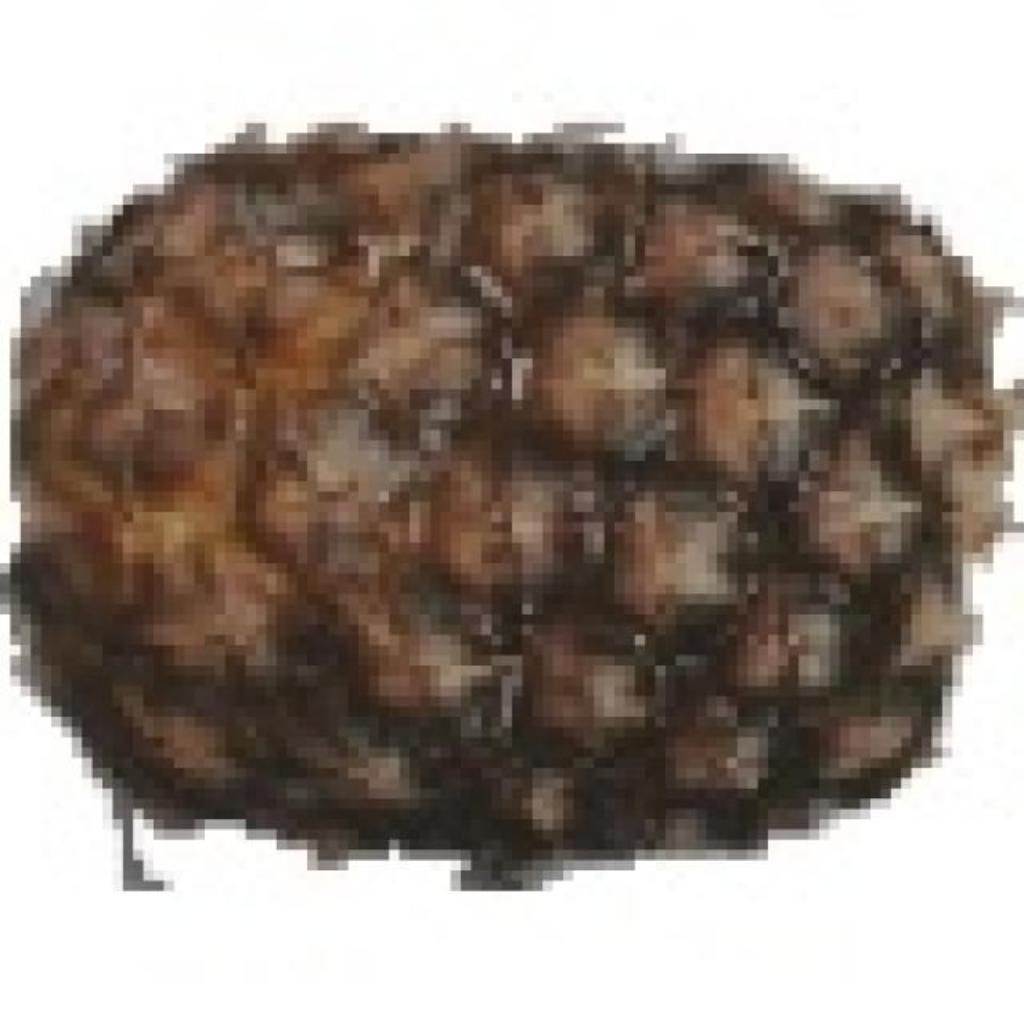pineapple: (31, 113, 1014, 860)
